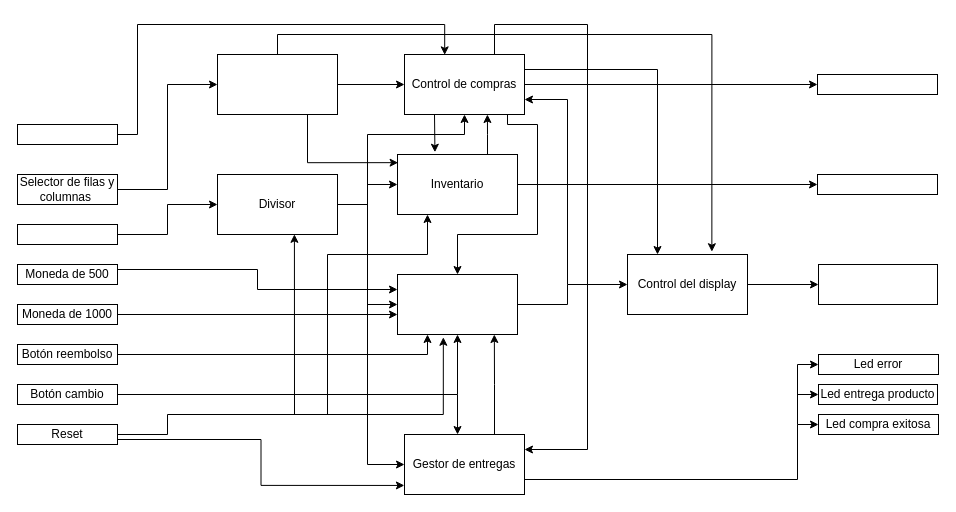
Image size: 956x512. Some labels were removed from this diagram. Here are the shapes that lost their labels. From the top down, the centre of each, then its label:
At [277,84]: "Teclado".
At [877,84]: "Led saldo insuficiente".
At [67,134]: "Botón confirmar".
At [877,184]: "Led sin stock".
At [67,234]: "Reloj".
At [457,304]: "Monedas".
At [878,284]: "visualización del display".
